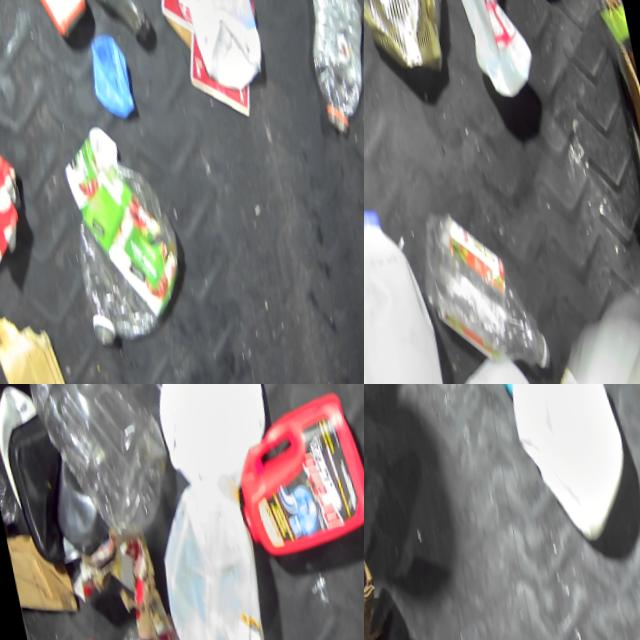can: (364, 0, 457, 84)
milk_jug: (142, 470, 270, 640), (500, 384, 637, 538), (364, 189, 455, 384), (135, 384, 283, 490), (428, 0, 540, 102), (153, 0, 264, 82), (408, 337, 546, 384)
non_white_jug: (212, 385, 364, 560)
plastic_bottle: (413, 191, 551, 384), (3, 384, 172, 538), (290, 0, 364, 129), (31, 0, 151, 51)
